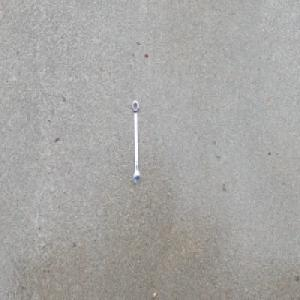Wrench: (131, 98, 141, 185)
